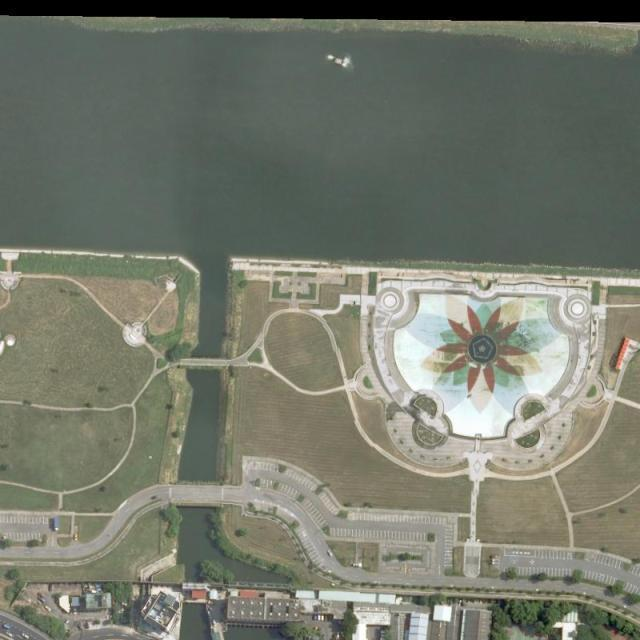vehicle: (54, 518, 59, 531), (327, 550, 334, 558), (6, 632, 15, 638), (22, 633, 30, 639), (38, 597, 46, 602), (4, 624, 10, 630), (45, 606, 51, 611), (74, 607, 78, 614), (74, 534, 78, 540), (337, 632, 340, 639)
